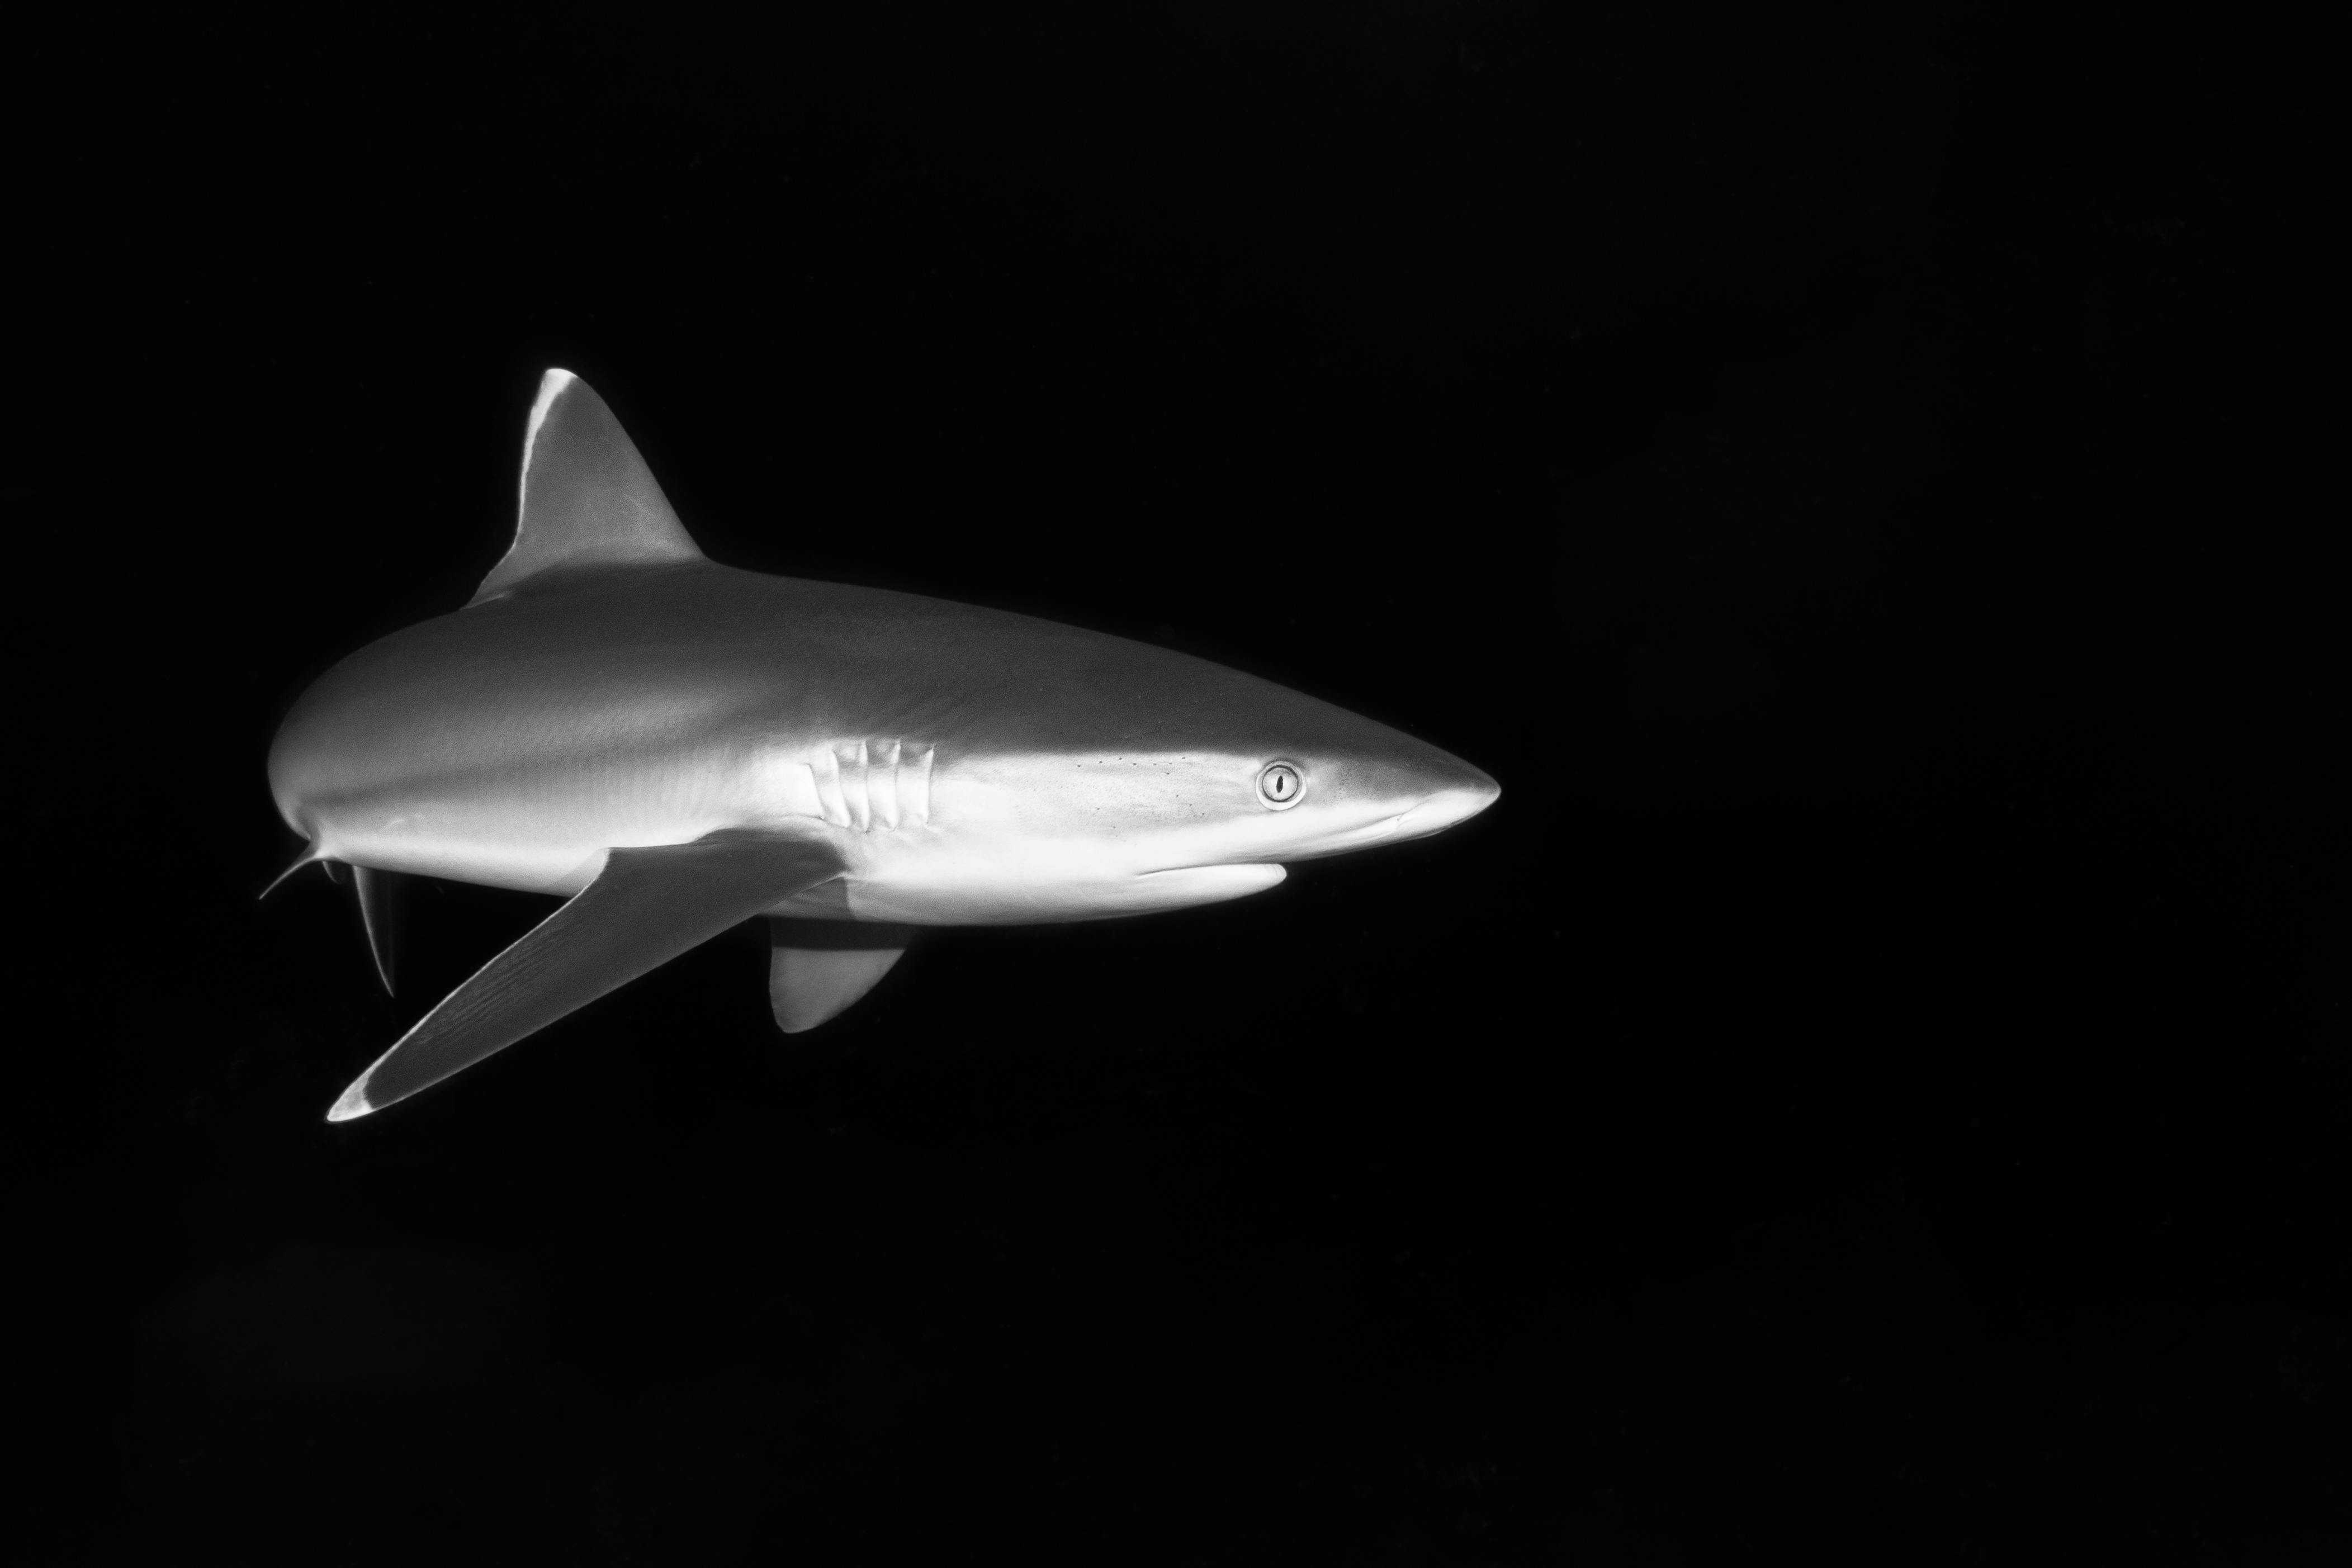shark: (252, 366, 1508, 1132)
